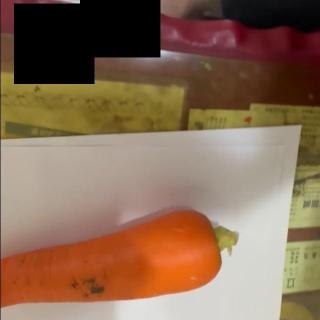carrot: (0, 208, 238, 313)
